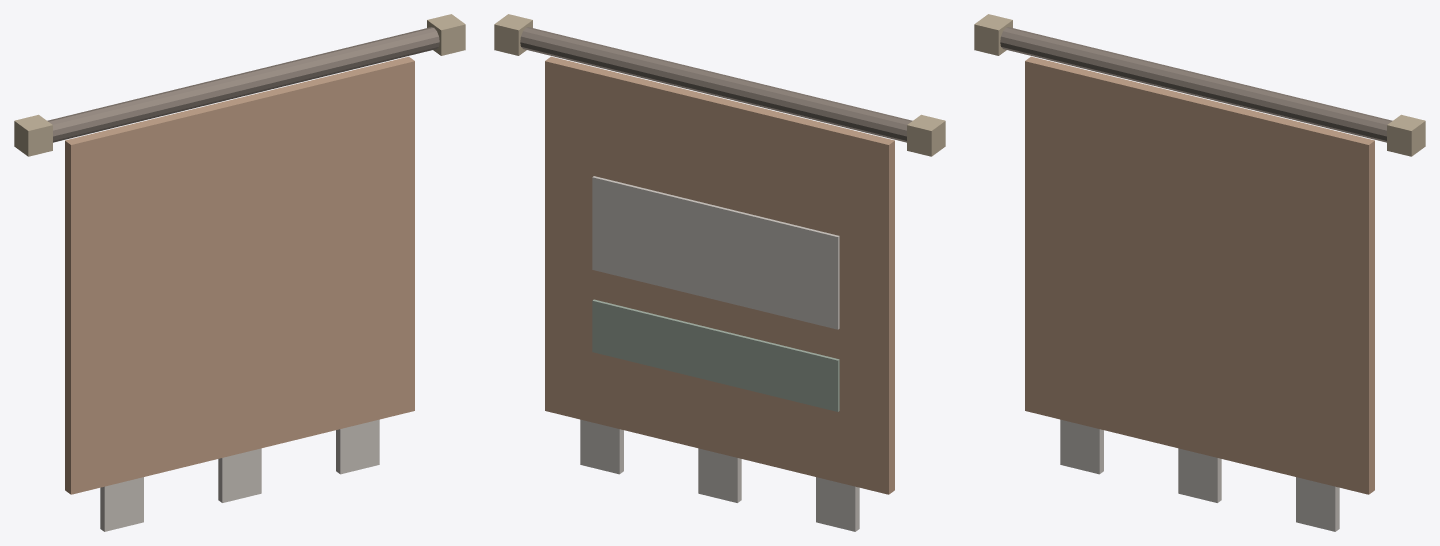
The model's file is arte_tapecaria.glb.
3 views of the same model, side by side, from view 1: azimuth 30°, elevation 25°; view 2: azimuth 150°, elevation 25°; view 3: azimuth 330°, elevation 25° (orthographic).
Visible parts, largest first — view 1: ARTE_TAPEÇARIA_v01; view 2: ARTE_TAPEÇARIA_v01; view 3: ARTE_TAPEÇARIA_v01.
Part boxes in pixels (left/top/right/bottom): ARTE_TAPEÇARIA_v01: left=14, top=14, right=465, bottom=531; ARTE_TAPEÇARIA_v01: left=494, top=14, right=945, bottom=531; ARTE_TAPEÇARIA_v01: left=974, top=14, right=1425, bottom=531.
Bounding box in the file's own units: 0.89 × 0.825 × 0.05.
